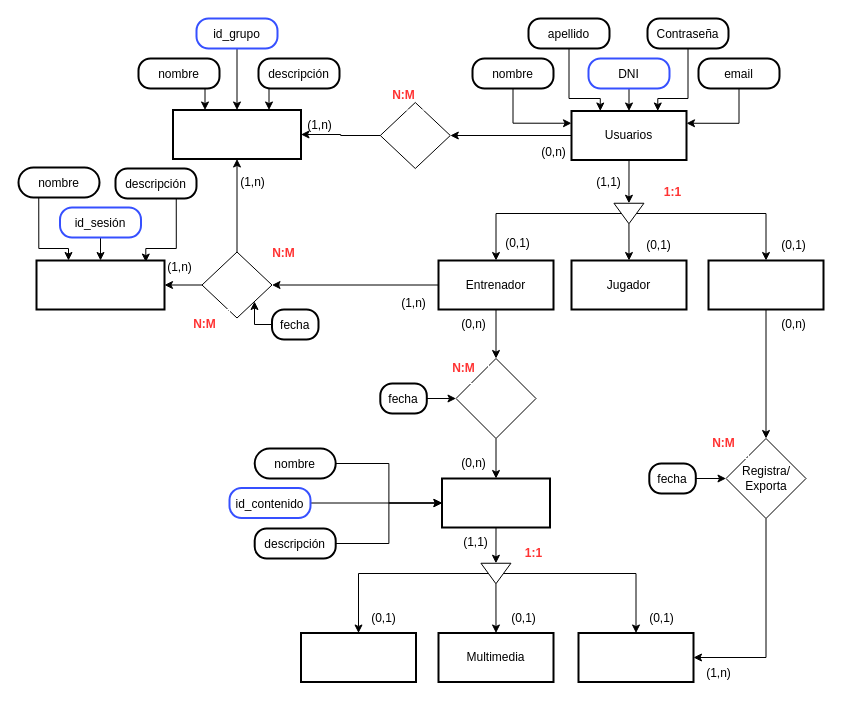
The diagram is 841 pixels wide and 707 high, and some of its shapes have lost their labels. The shapes that lost their labels are listed below. From the top down, each one's box as (x1, y1, x2, y2) in pixels, then its label:
(172, 108, 302, 160): Grupo
(379, 102, 450, 168): Pertenece
(35, 259, 165, 310): Sesión
(201, 251, 272, 318): Crea
(707, 259, 824, 310): Estadístico
(455, 358, 536, 438): Envía
(440, 477, 550, 528): Contenido
(300, 632, 416, 682): Comentario
(577, 632, 694, 682): Estadística
